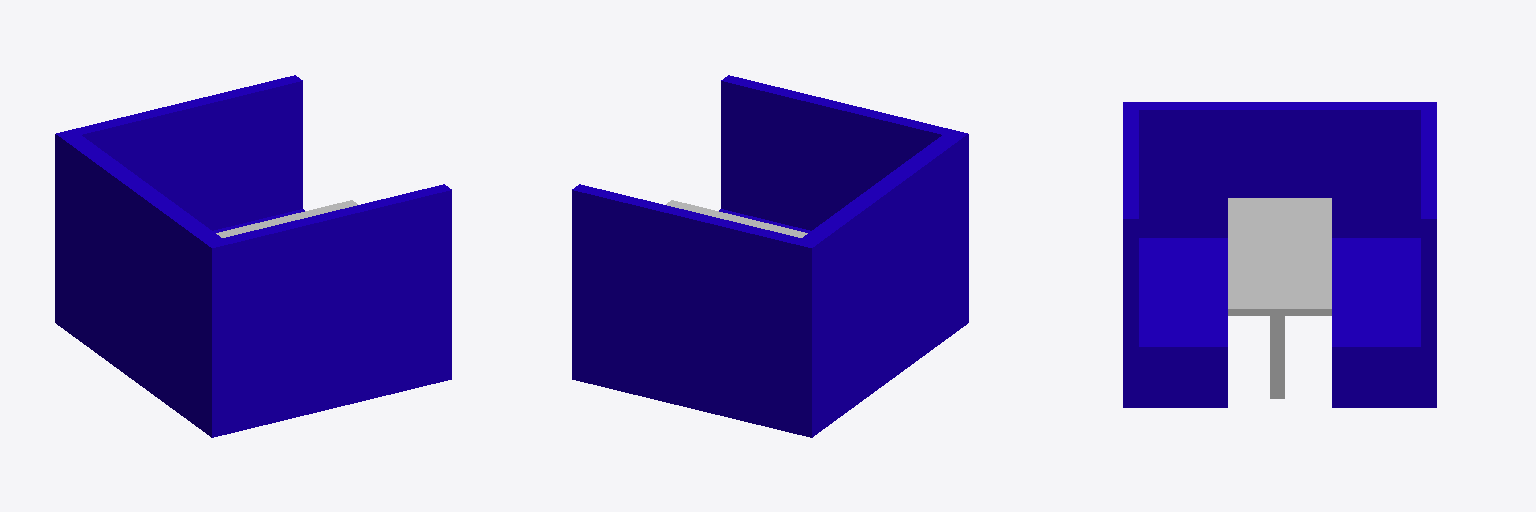
Rendered from werkplekPaars.obj.
3 views of the same model, side by side, from view 1: azimuth 30°, elevation 25°; view 2: azimuth 150°, elevation 25°; view 3: azimuth 270°, elevation 25° (orthographic).
Parts seen in each view (by area): view 1: Cube; view 2: Cube; view 3: Cube.
Boxes of the visible parts, <box> form: Cube: <box>55,75,451,437</box>; Cube: <box>572,75,968,437</box>; Cube: <box>1123,102,1436,407</box>.
Bounding box in the file's own units: 5.4 × 4 × 6.